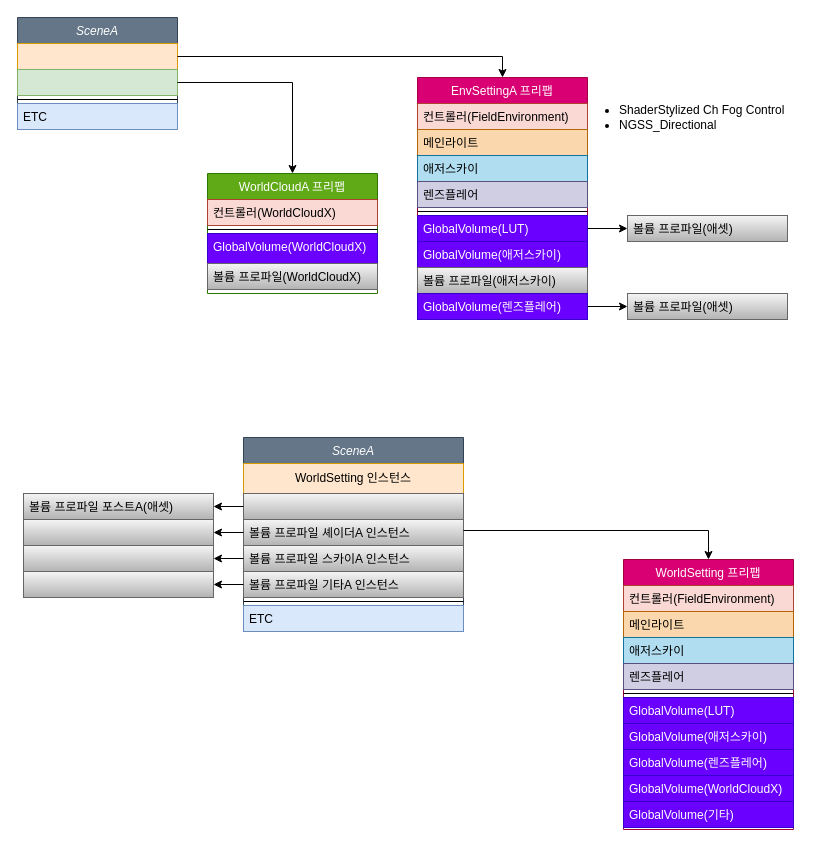
Some shapes in this 835 by 848 pixel diagram are drawn without their labels. Each missing label, with the centre of its shape:
EnvSettingA 인스턴스: [97,56]
WorldCloudA 인스턴스: [97,82]
볼륨 프로파일 기타A(애셋): [118,584]
볼륨 프로파일 셰이더A(애셋): [118,532]
볼륨 프로파일 스카이A(애셋): [118,558]
볼륨 프로파일 포스트A 인스턴스: [353,506]
